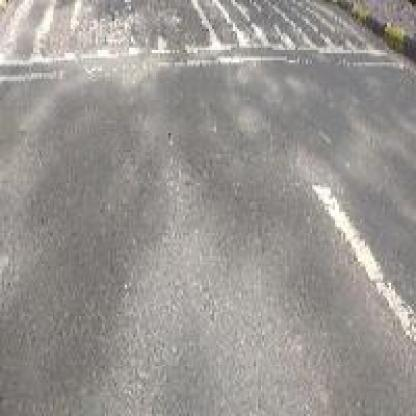Speed Bump: (0, 0, 408, 71)
